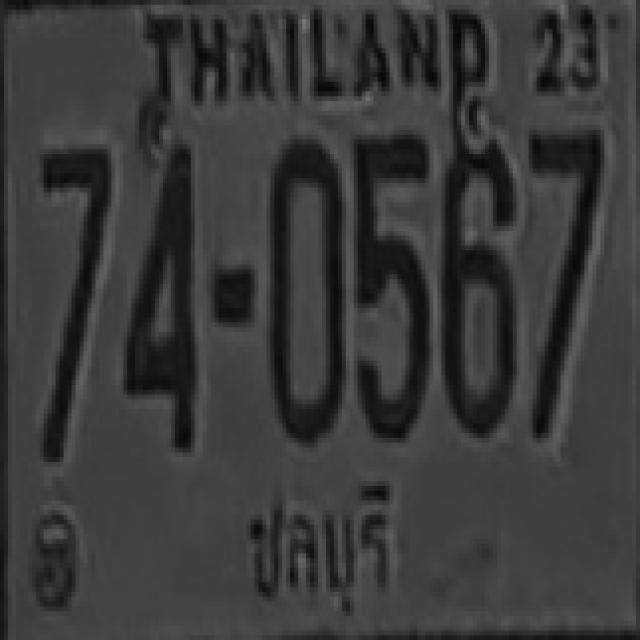0: (241, 122, 356, 448)
4: (119, 137, 195, 445)
5: (352, 123, 427, 438)
6: (437, 135, 513, 433)
7: (525, 125, 600, 455), (40, 144, 107, 474)
Chonburi: (241, 474, 400, 617)
